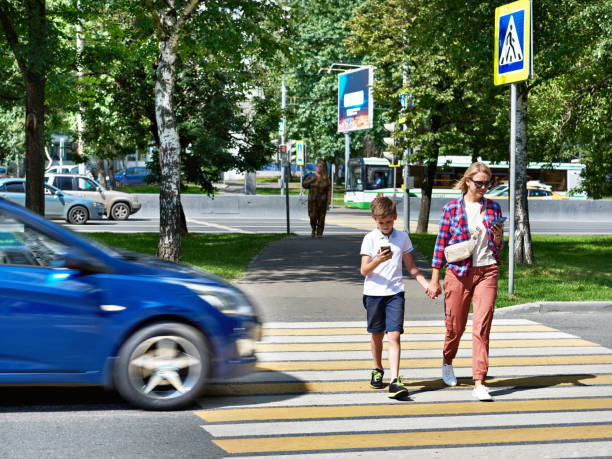otomobil: (0, 173, 285, 436)
yaya: (427, 156, 524, 398), (341, 191, 416, 405)
yaya_gecidi: (493, 3, 536, 89)
